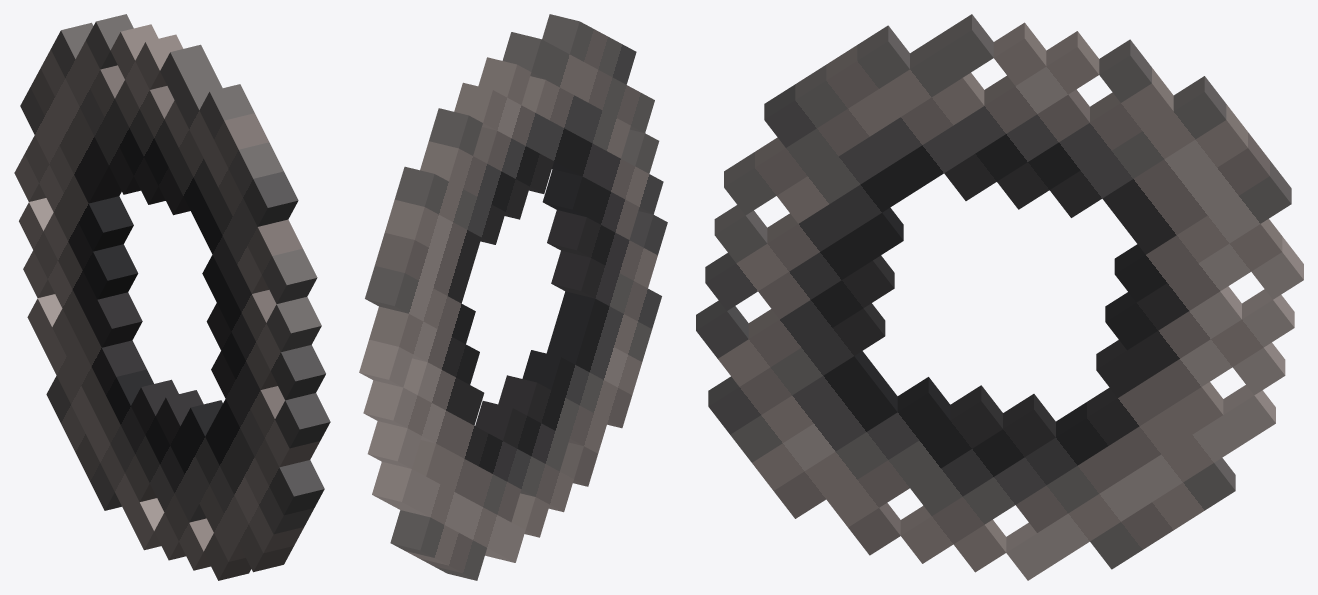
File: iron_chakram.glb
3 views of the same model, side by side, from view 1: azimuth 30°, elevation 25°; view 2: azimuth 150°, elevation 25°; view 3: azimuth 270°, elevation 25° (orthographic). The views are drawn at different scales.
Visible parts, largest first — view 1: main__Tool_R; view 2: main__Tool_R; view 3: main__Tool_R.
Part boxes in pixels (x1,y1,x2,y2): main__Tool_R: (14, 14, 330, 580); main__Tool_R: (359, 14, 667, 580); main__Tool_R: (696, 14, 1303, 580).
Bounding box in the file's own units: 0.0531 × 0.853 × 0.853.
1 material, 1 textured.
